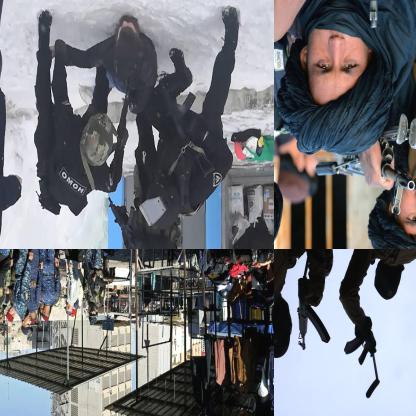rifle: (314, 109, 415, 219), (338, 283, 386, 406), (289, 274, 334, 357), (106, 194, 161, 248), (318, 0, 400, 36), (79, 249, 99, 300)
